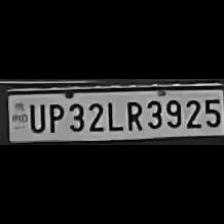2: (85, 98, 105, 132), (182, 96, 202, 128)
3: (64, 98, 84, 132), (144, 96, 162, 130)
5: (200, 96, 222, 128)
9: (164, 96, 182, 128)
L: (104, 98, 122, 132)
P: (44, 100, 64, 134)
R: (123, 97, 143, 130)
U: (24, 101, 43, 133)
